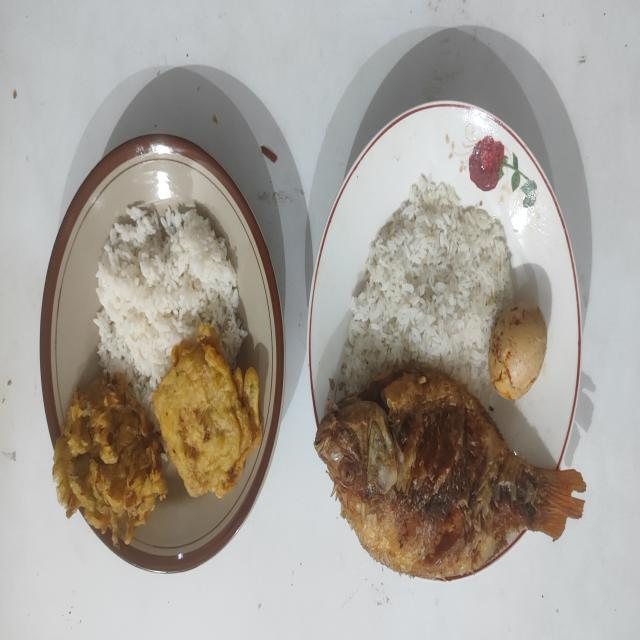ikan_mujair: (314, 370, 584, 580)
nasi_putih: (335, 175, 513, 402), (94, 204, 248, 404)
